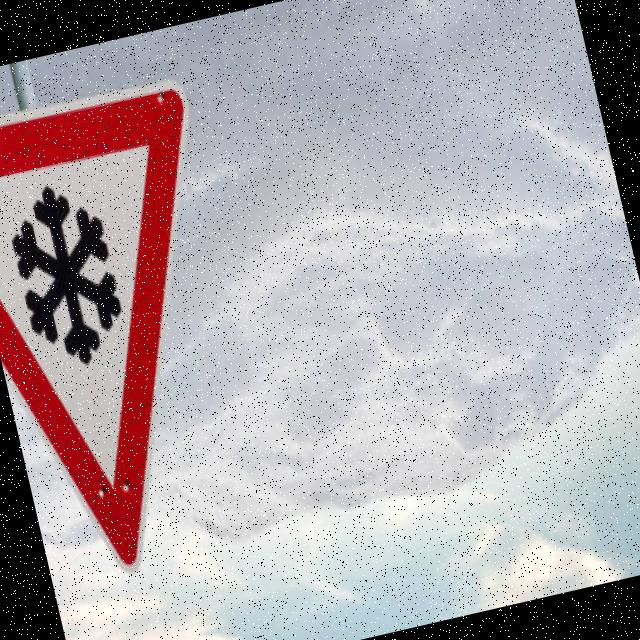snow_warning: (0, 50, 291, 611)
